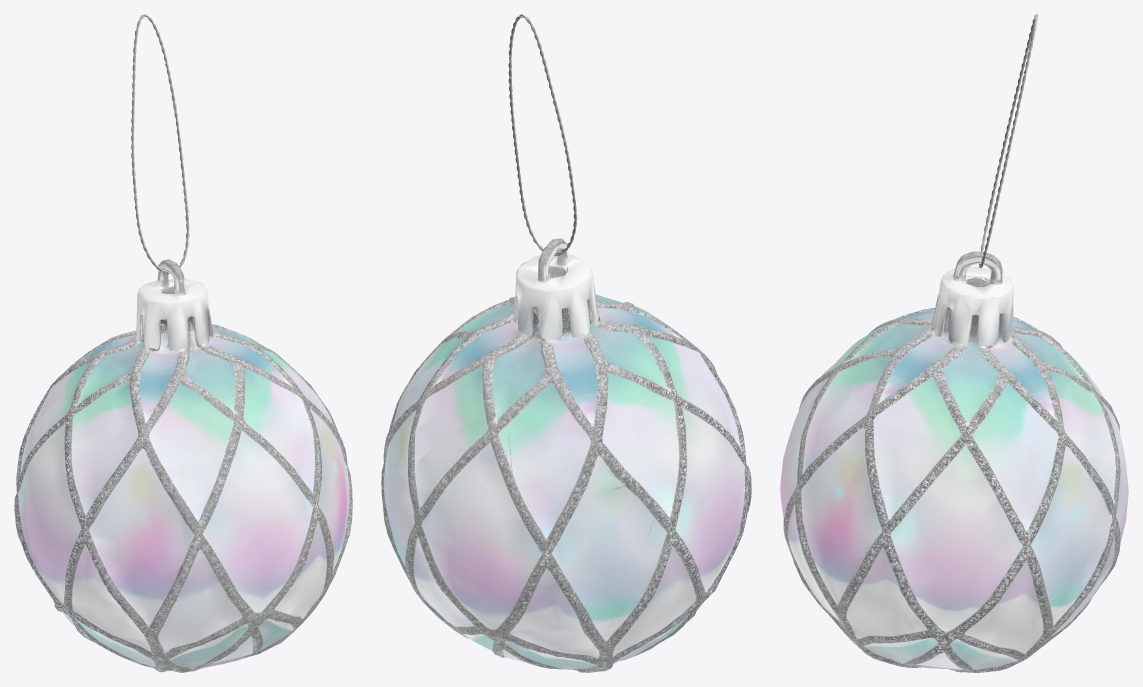
File: Iridescent_Diamond_Orb_L.glb
The picture shows the model from 3 angles, left to right: view 1: azimuth 30°, elevation 25°; view 2: azimuth 150°, elevation 25°; view 3: azimuth 270°, elevation 25°; orthographic projection. The views are drawn at different scales.
Visible parts, largest first — view 1: Mesh1.0, GN Instance; view 2: Mesh1.0, GN Instance; view 3: Mesh1.0, GN Instance.
Part boxes in pixels (left/top/right/bottom): Mesh1.0: left=14, top=259, right=352, bottom=672; GN Instance: left=131, top=14, right=189, bottom=273; Mesh1.0: left=381, top=238, right=751, bottom=672; GN Instance: left=508, top=14, right=577, bottom=256; Mesh1.0: left=780, top=251, right=1128, bottom=672; GN Instance: left=978, top=14, right=1037, bottom=267.
Size of the model in its own units: 0.0542 by 0.1108 by 0.0544.
Materials: 2 (1 with a texture image).
